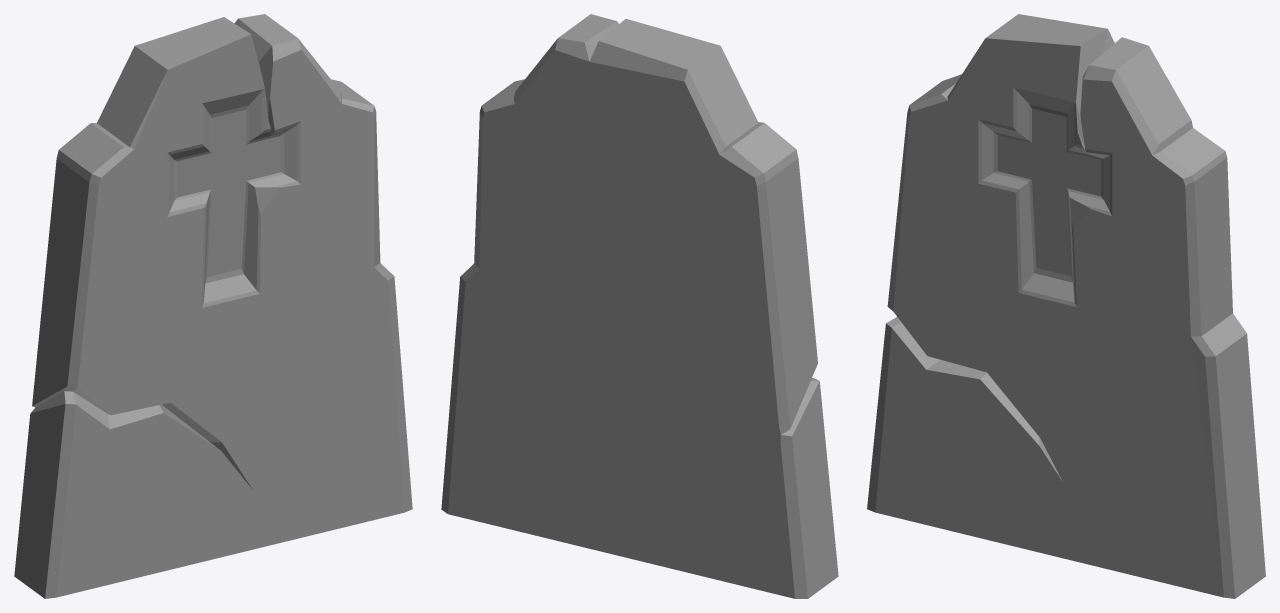
Rendered from WF_LP_HT_Props_Gravestone.006.fbx.
3 renders of one model, left to right at view 1: azimuth 30°, elevation 25°; view 2: azimuth 150°, elevation 25°; view 3: azimuth 330°, elevation 25°, orthographic.
Parts seen in each view (by area): view 1: WF_LP_HT_Props_Gravestone.006; view 2: WF_LP_HT_Props_Gravestone.006; view 3: WF_LP_HT_Props_Gravestone.006.
Boxes of the visible parts, left/top/right/bottom form: WF_LP_HT_Props_Gravestone.006: left=14, top=14, right=412, bottom=598; WF_LP_HT_Props_Gravestone.006: left=441, top=14, right=838, bottom=598; WF_LP_HT_Props_Gravestone.006: left=867, top=14, right=1265, bottom=598.
Bounding box in the file's own units: 0.7186 × 0.9543 × 0.1351.
